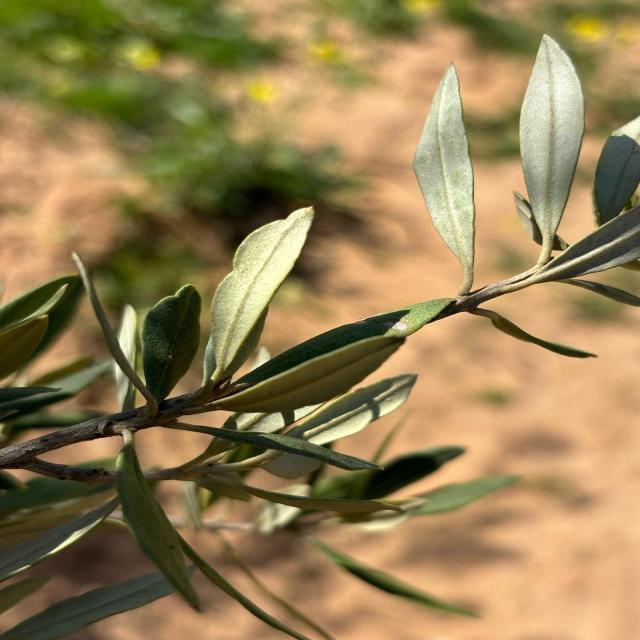Healthy: (208, 206, 314, 388), (206, 335, 405, 414), (520, 36, 584, 273), (413, 64, 474, 298), (141, 285, 201, 410)
